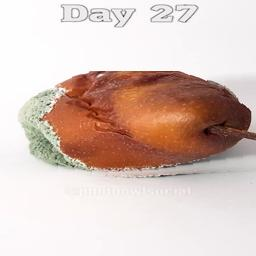Pear Rotten: (12, 71, 256, 184)
